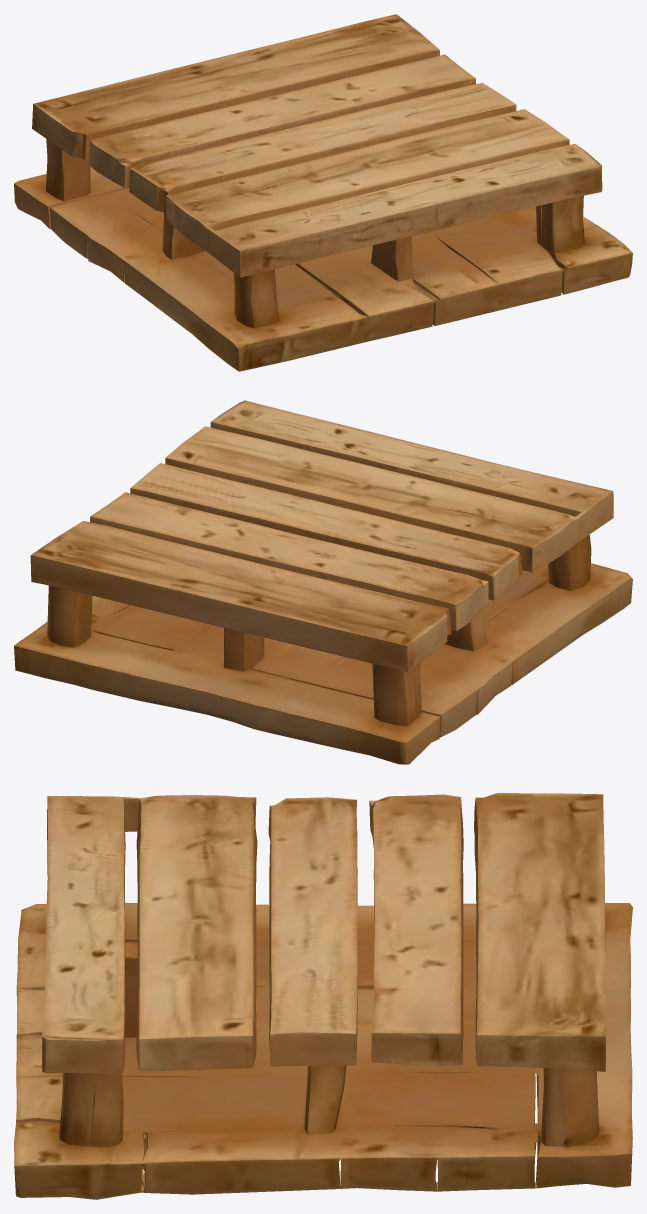
The model's file is m2RaftPlatform.glb.
3 views of the same model, one above another, from view 1: azimuth 30°, elevation 25°; view 2: azimuth 150°, elevation 25°; view 3: azimuth 270°, elevation 25° (orthographic). The views are drawn at different scales.
Parts seen in each view (by area): view 1: model; view 2: model; view 3: model.
Boxes of the visible parts, x1=… form: model: x1=14, y1=14, x2=632, y2=371; model: x1=14, y1=400, x2=632, y2=764; model: x1=14, y1=793, x2=632, y2=1199.
Size of the model in its own units: 1.9 by 0.5203 by 1.89.
1 material, 1 textured.
